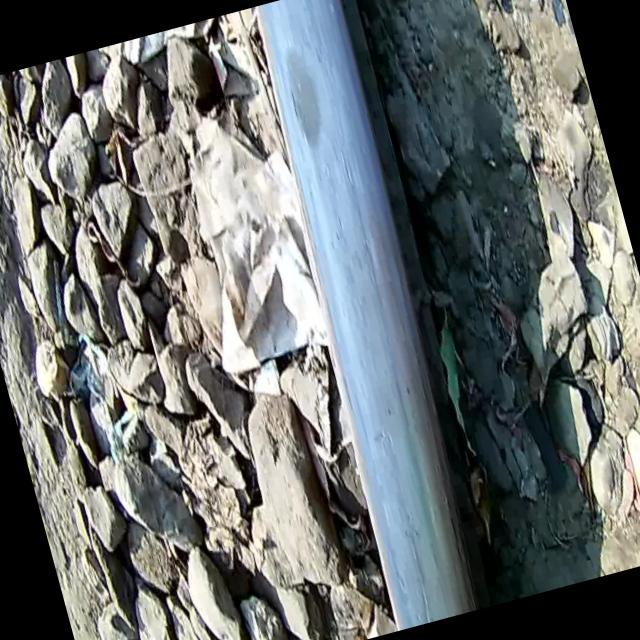Squats: (211, 0, 526, 636)
